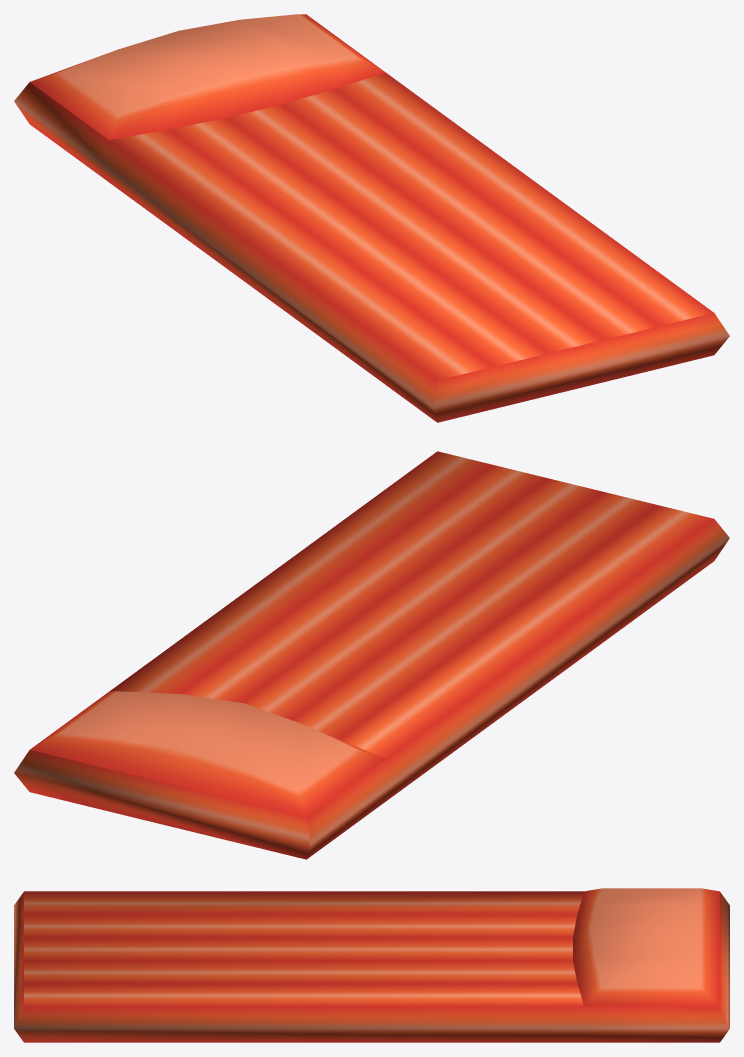
File: Inflatable_Bed_02.fbx
The picture shows the model from 3 angles, top to bottom: view 1: azimuth 30°, elevation 25°; view 2: azimuth 150°, elevation 25°; view 3: azimuth 270°, elevation 25°; orthographic projection. The views are drawn at different scales.
Parts seen in each view (by area): view 1: Inflatable_Bed_02; view 2: Inflatable_Bed_02; view 3: Inflatable_Bed_02.
Boxes of the visible parts, x1,y1,x2,y2 form: Inflatable_Bed_02: [14, 14, 729, 422]; Inflatable_Bed_02: [14, 451, 729, 859]; Inflatable_Bed_02: [14, 888, 729, 1042].
Size of the model in its own units: 0.2846 by 0.0623 by 0.6982.
